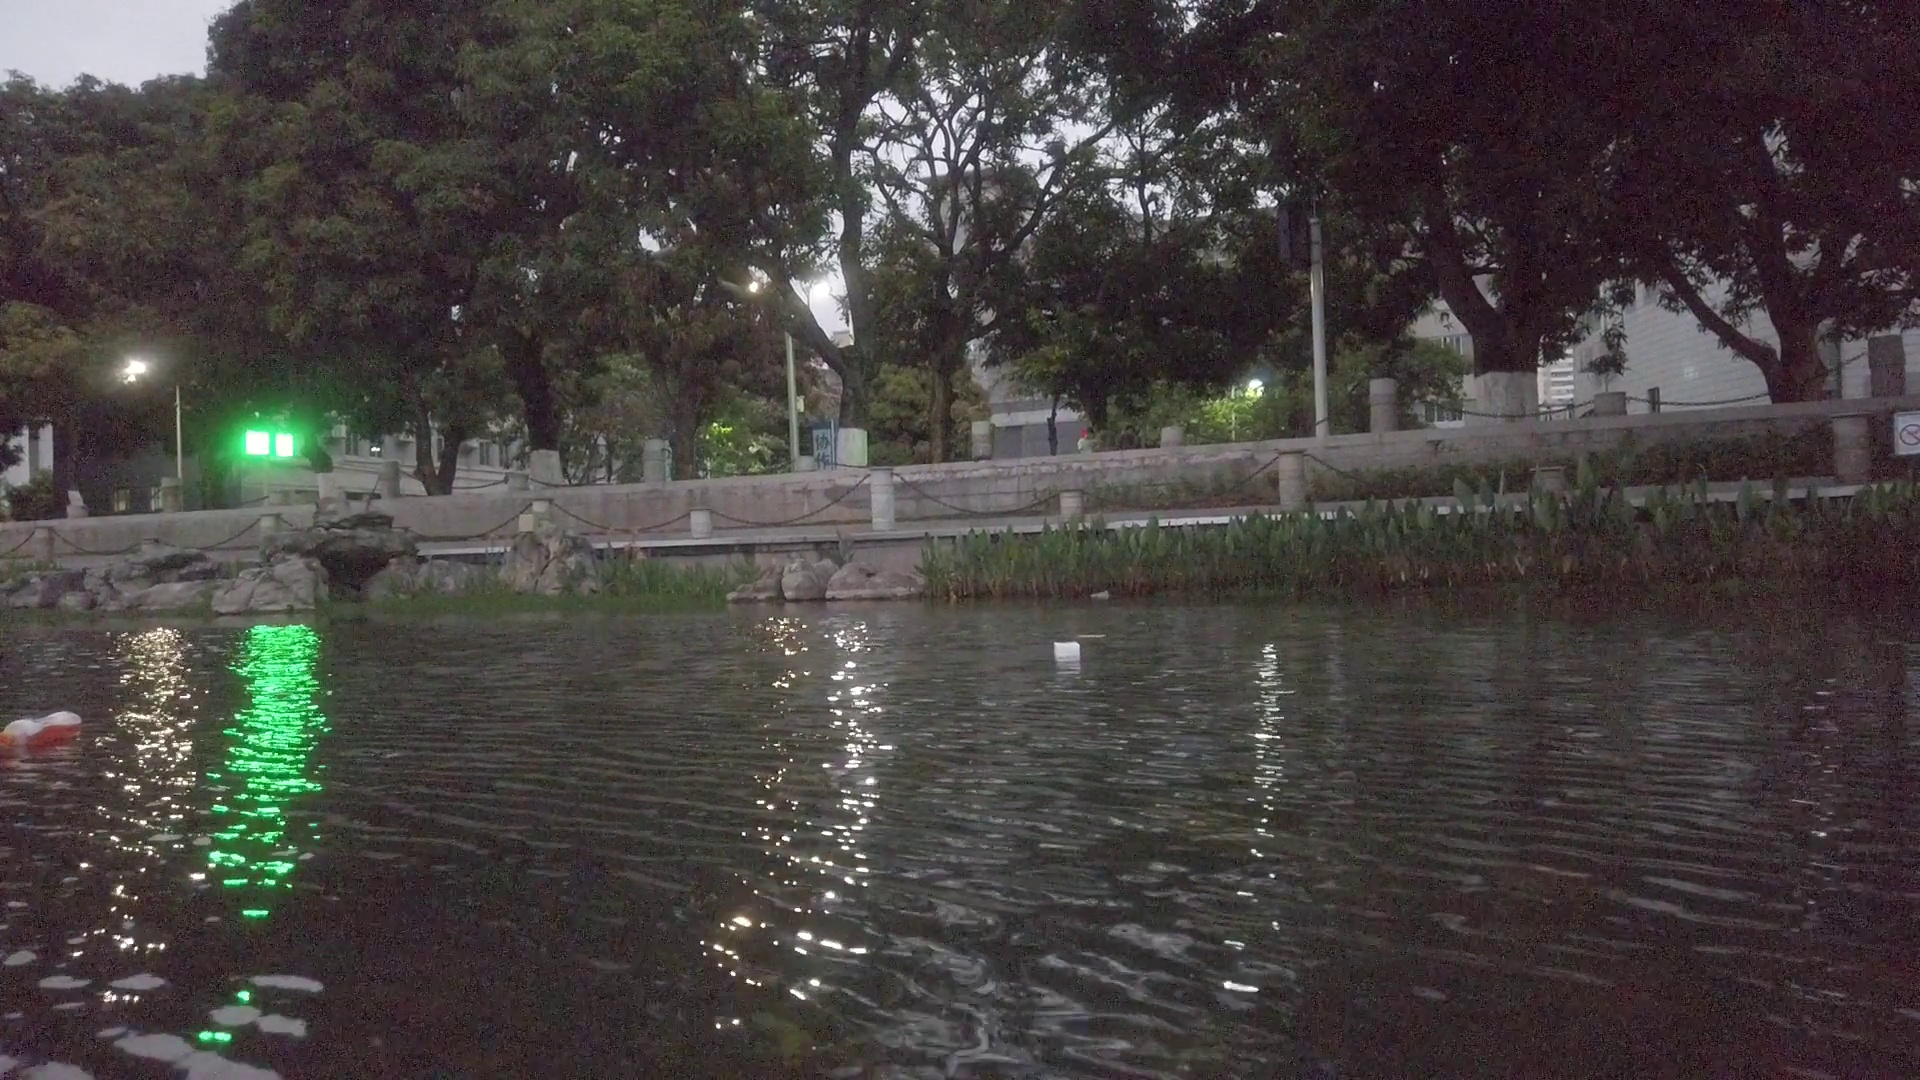bottle: (4, 709, 82, 748)
carton: (1052, 640, 1080, 659)
